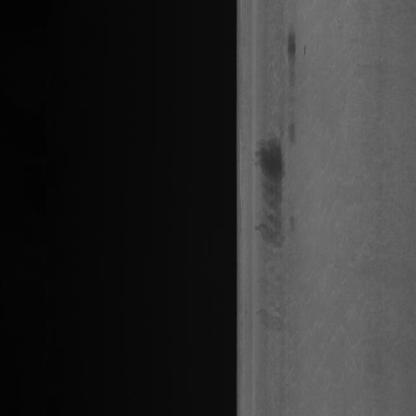oil_spot: (250, 132, 284, 324), (287, 28, 299, 144)
